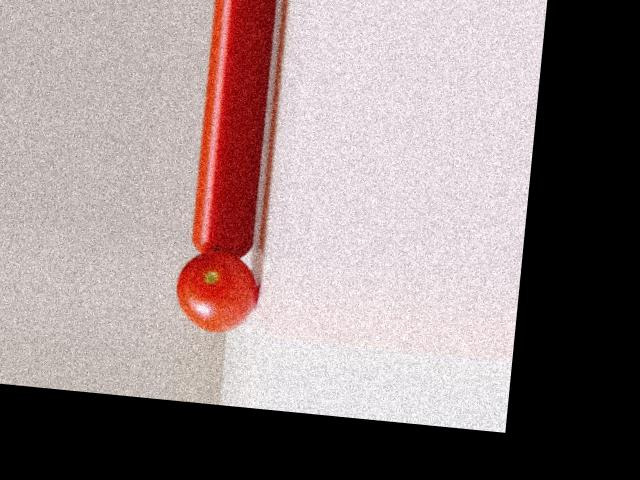tomato: (172, 248, 260, 335)
